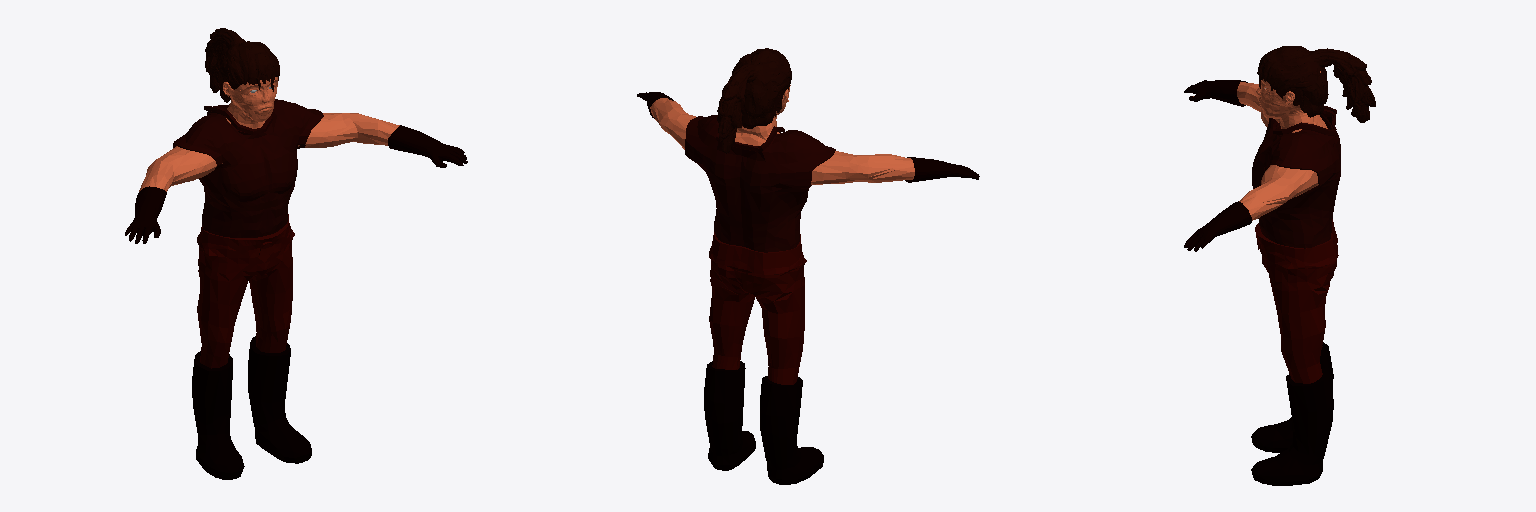
The model's file is MIXAMO_Body_Hair.obj.
The picture shows the model from 3 angles: view 1: azimuth 30°, elevation 25°; view 2: azimuth 150°, elevation 25°; view 3: azimuth 270°, elevation 25°; orthographic projection.
Visible parts, largest first — view 1: a_Retopo.001_Plane.011, a_Retopo.002_Plane.012, a_Retopo.003_Plane.013, a_Retopo_Plane.004, Sphere_Sphere.001, a_Retopo.004_Plane.007, Plane.004_Plane.008; view 2: a_Retopo.001_Plane.011, a_Retopo.002_Plane.012, a_Retopo.003_Plane.013, Sphere_Sphere.001, a_Retopo_Plane.004, a_Retopo.004_Plane.007; view 3: a_Retopo.001_Plane.011, a_Retopo.002_Plane.012, a_Retopo.003_Plane.013, Sphere_Sphere.001, a_Retopo_Plane.004, a_Retopo.004_Plane.007, Plane.004_Plane.008.
Part boxes in pixels (left/top/right/bottom): a_Retopo.001_Plane.011: left=173, top=99, right=323, bottom=237; a_Retopo.002_Plane.012: left=197, top=214, right=294, bottom=368; a_Retopo.003_Plane.013: left=192, top=336, right=311, bottom=479; a_Retopo_Plane.004: left=139, top=113, right=399, bottom=191; Sphere_Sphere.001: left=205, top=28, right=279, bottom=102; a_Retopo.004_Plane.007: left=125, top=125, right=467, bottom=243; Plane.004_Plane.008: left=223, top=77, right=277, bottom=128; a_Retopo.001_Plane.011: left=685, top=115, right=835, bottom=274; a_Retopo.002_Plane.012: left=709, top=232, right=806, bottom=384; a_Retopo.003_Plane.013: left=704, top=361, right=823, bottom=484; Sphere_Sphere.001: left=717, top=48, right=791, bottom=153; a_Retopo_Plane.004: left=650, top=98, right=914, bottom=184; a_Retopo.004_Plane.007: left=637, top=92, right=979, bottom=182; a_Retopo.001_Plane.011: left=1252, top=106, right=1340, bottom=265; a_Retopo.002_Plane.012: left=1255, top=219, right=1338, bottom=383; a_Retopo.003_Plane.013: left=1251, top=342, right=1333, bottom=485; Sphere_Sphere.001: left=1257, top=46, right=1375, bottom=122; a_Retopo_Plane.004: left=1193, top=82, right=1327, bottom=220; a_Retopo.004_Plane.007: left=1184, top=80, right=1251, bottom=251; Plane.004_Plane.008: left=1256, top=71, right=1320, bottom=132.
Size of the model in its own units: 4.16 by 4.88 by 2.04.